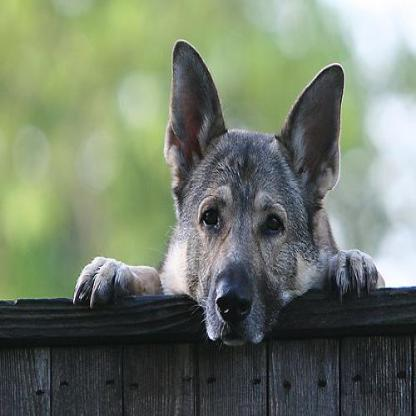dog: (71, 37, 387, 346)
